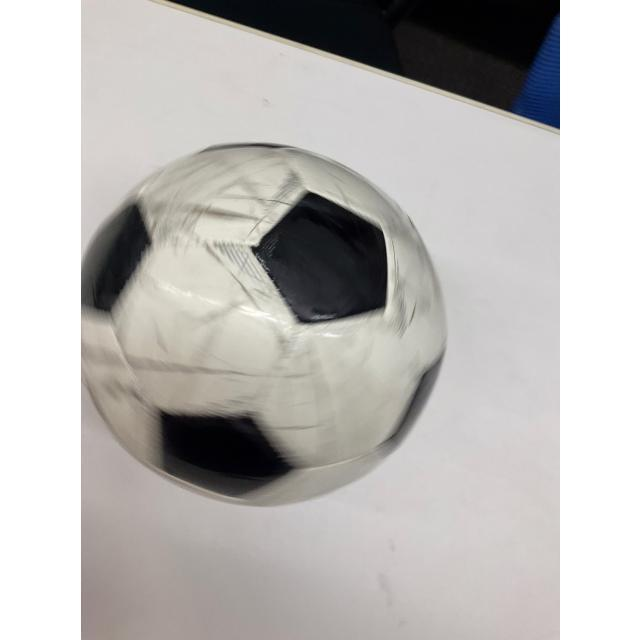ball: (80, 143, 432, 514)
